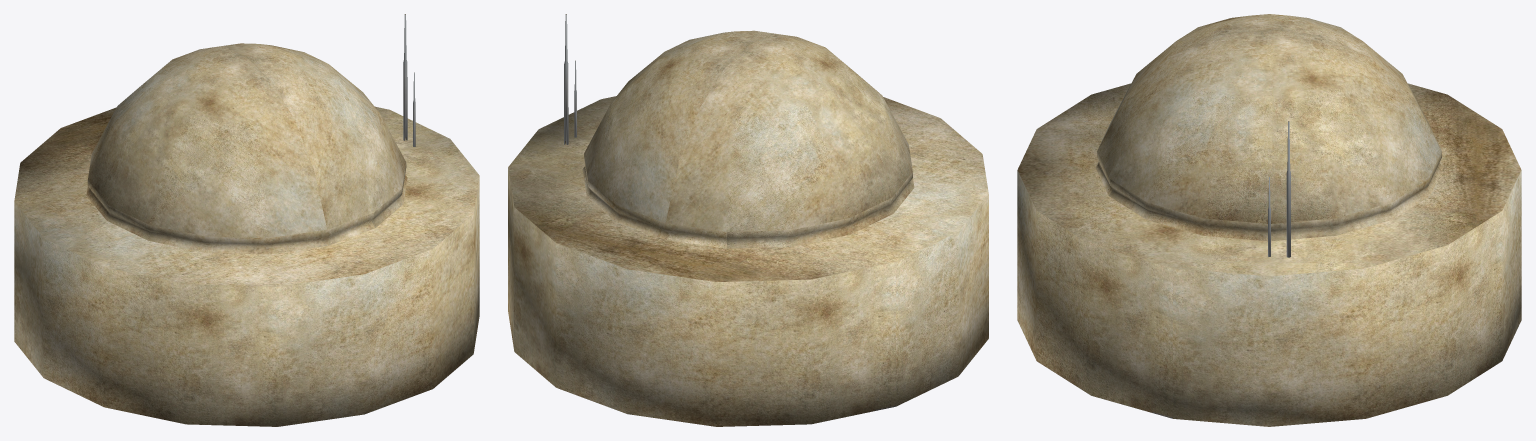
Rendered from sw_tatooine_house_simple1.fbx.
The picture shows the model from 3 angles, left to right: view 1: azimuth 30°, elevation 25°; view 2: azimuth 150°, elevation 25°; view 3: azimuth 270°, elevation 25°; orthographic projection. The views are drawn at different scales.
Visible parts, largest first — view 1: sw_tatooine_house_simple1; view 2: sw_tatooine_house_simple1; view 3: sw_tatooine_house_simple1.
Boxes of the visible parts, <box> form: sw_tatooine_house_simple1: <box>14,14,479,426</box>; sw_tatooine_house_simple1: <box>508,14,988,426</box>; sw_tatooine_house_simple1: <box>1017,14,1521,426</box>.
Bounding box in the file's own units: 447 × 285 × 447.
Materials: 1 (1 with a texture image).
